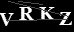K: (37, 6, 56, 21)
R: (18, 6, 35, 21)
V: (1, 12, 14, 26)
Z: (58, 11, 73, 26)
